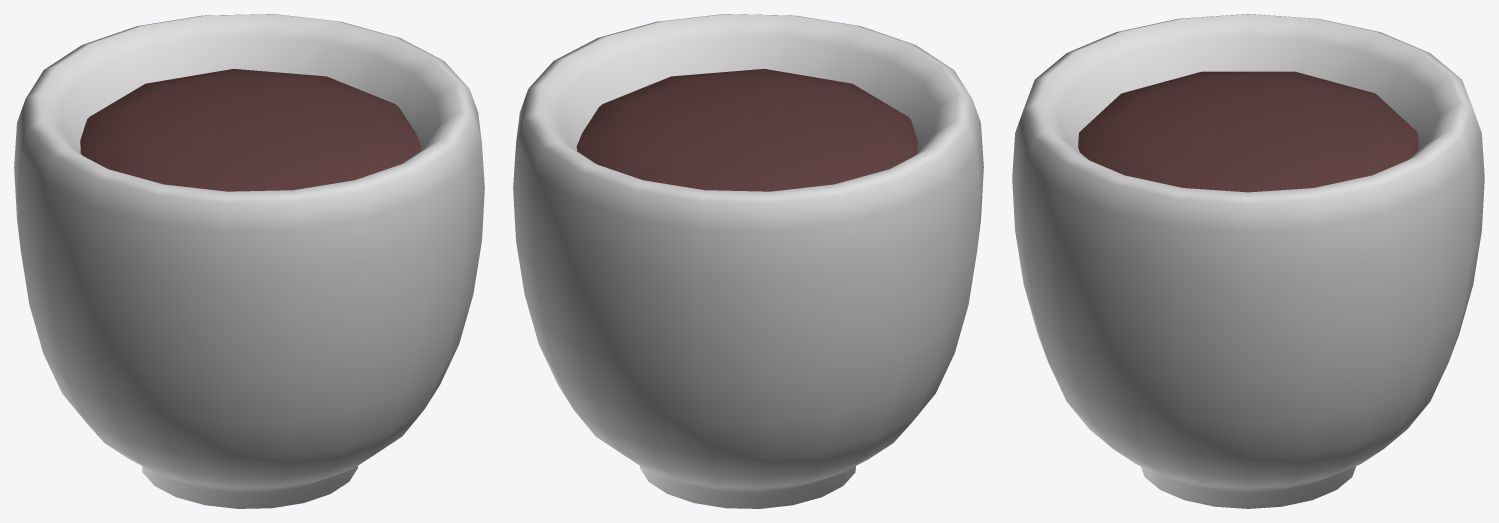
The model's file is Plantpot_001.fbx.
The picture shows the model from 3 angles, left to right: view 1: azimuth 30°, elevation 25°; view 2: azimuth 150°, elevation 25°; view 3: azimuth 270°, elevation 25°; orthographic projection.
Parts seen in each view (by area): view 1: polySurface344, polySurface345; view 2: polySurface344, polySurface345; view 3: polySurface344, polySurface345.
Boxes of the visible parts, <box> form: polySurface344: <box>14,14,484,508</box>; polySurface345: <box>80,69,421,191</box>; polySurface344: <box>513,14,983,508</box>; polySurface345: <box>576,69,917,191</box>; polySurface344: <box>1012,14,1484,508</box>; polySurface345: <box>1078,71,1418,192</box>.
Bounding box in the file's own units: 0.6816 × 0.584 × 0.6816.
